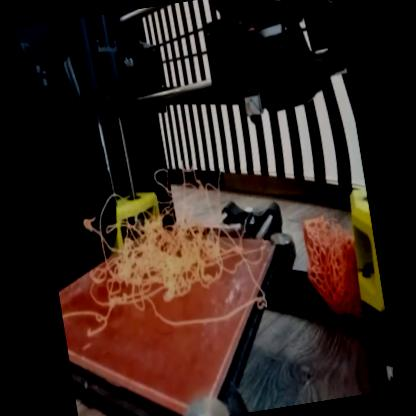fail: (85, 204, 254, 330)
